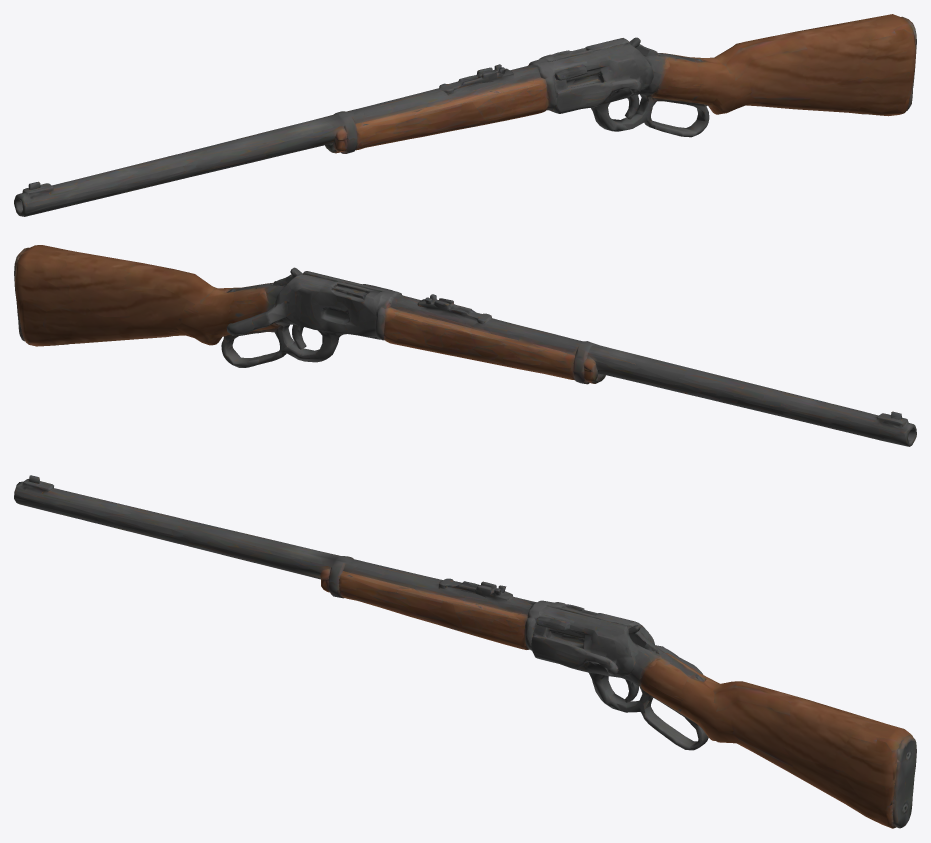
The model's file is upm_mu5vzoke1kj.glb.
3 views of the same model, one above another, from view 1: azimuth 30°, elevation 25°; view 2: azimuth 150°, elevation 25°; view 3: azimuth 330°, elevation 25° (orthographic).
Bounding box in the file's own units: 1.9 × 0.2933 × 0.1389.
1 material, 1 textured.
